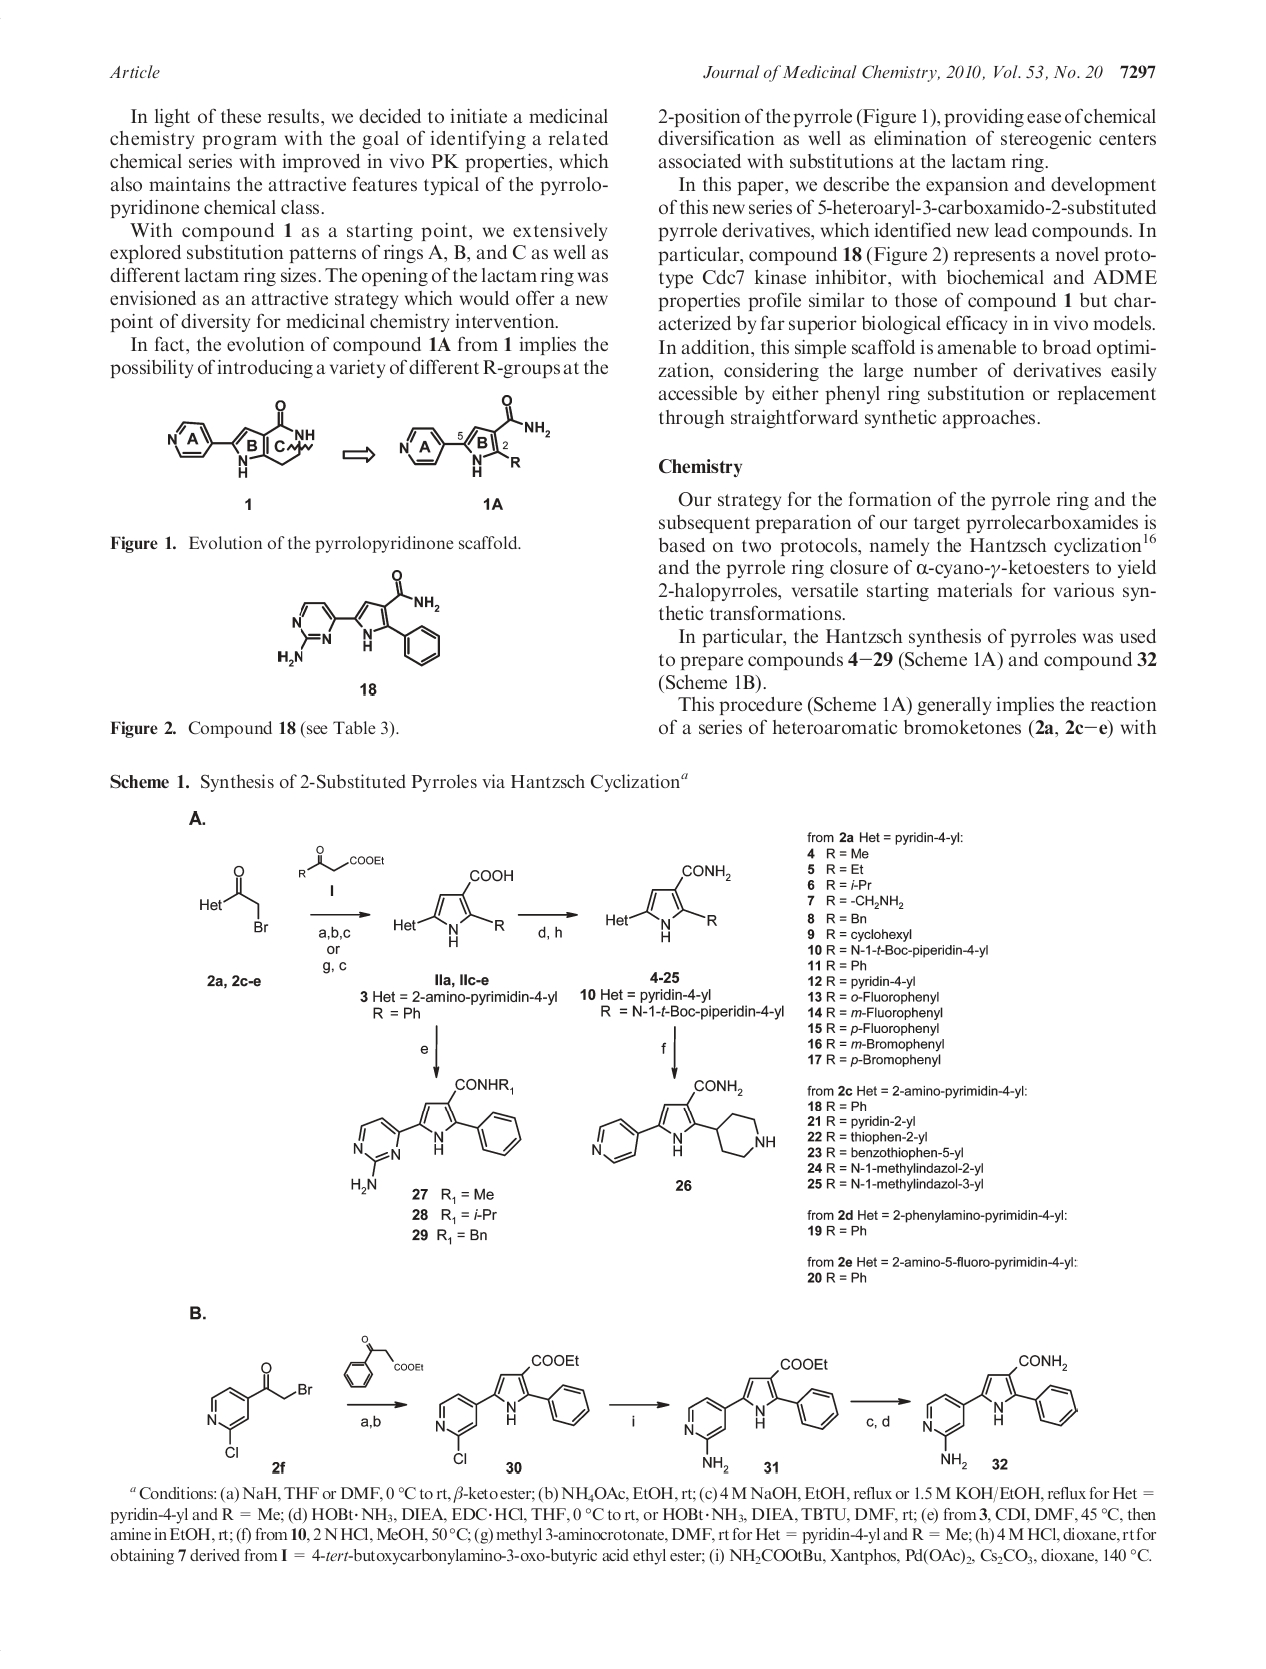exist_molecular: (347, 1075, 523, 1196), (920, 1352, 1081, 1471), (434, 1350, 592, 1467), (684, 1356, 840, 1474), (275, 567, 443, 670), (590, 1071, 777, 1164), (398, 394, 555, 479), (165, 398, 316, 480), (205, 1360, 316, 1460), (604, 862, 731, 946), (391, 866, 519, 948), (199, 864, 271, 935), (343, 1331, 426, 1390), (297, 840, 388, 880)
